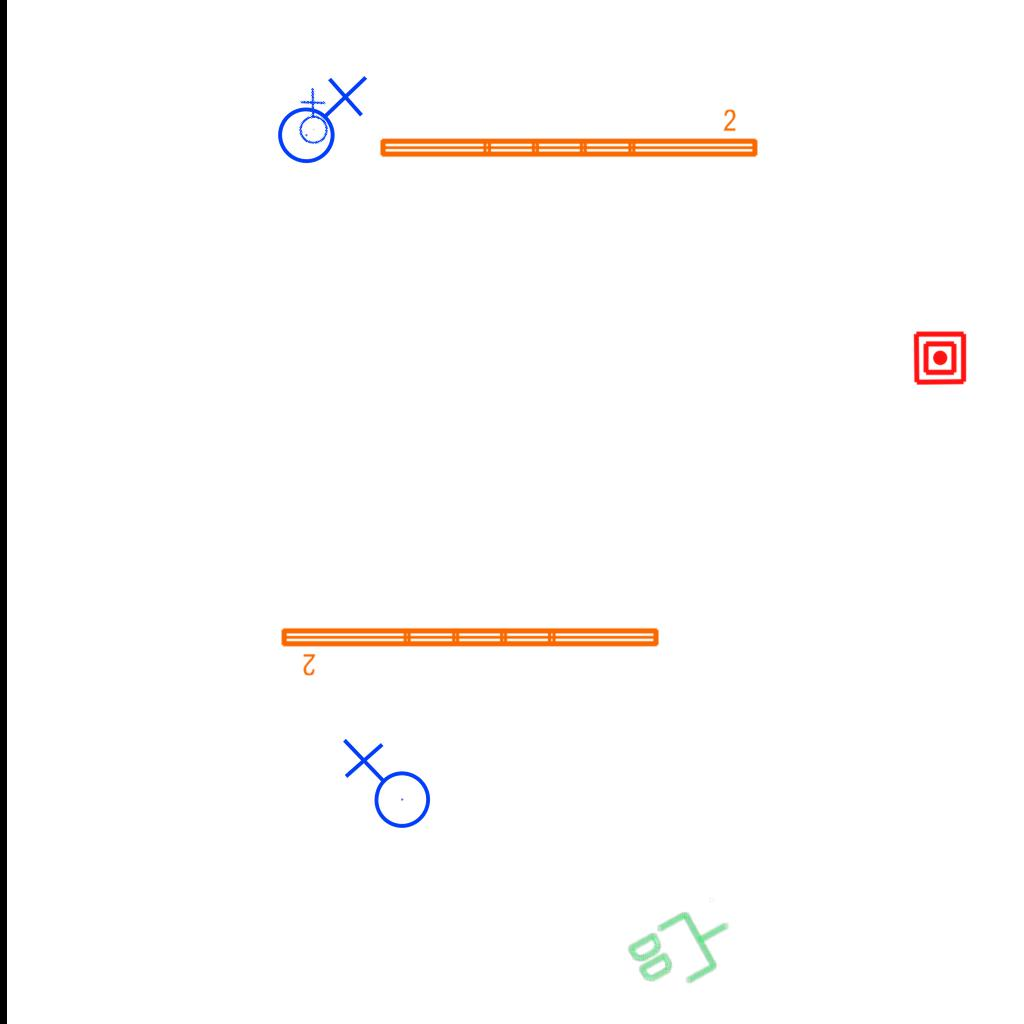Ambulanz_Pendelleuchte_LED: (277, 622, 664, 678), (375, 107, 762, 163)
Datenanschluss_zweifach: (621, 893, 746, 1004)
Elektroanschluss_allgemein_230V_Geraeteanschlussdose_230V: (338, 738, 432, 837), (269, 71, 368, 165), (277, 85, 346, 154)
NAM-Nichtautomatischer_Melder: (912, 330, 968, 386)
